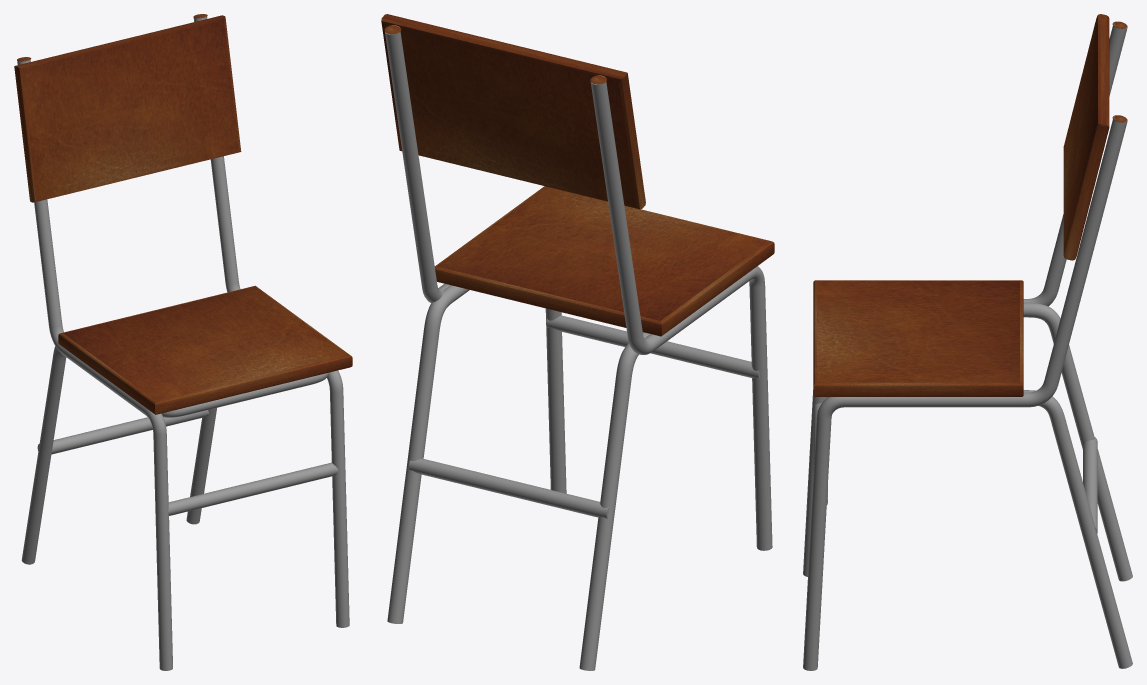
File: SillaCueroCafe.FBX
The picture shows the model from 3 angles, left to right: view 1: azimuth 30°, elevation 25°; view 2: azimuth 150°, elevation 25°; view 3: azimuth 270°, elevation 25°; orthographic projection. The views are drawn at different scales.
Parts seen in each view (by area): view 1: Espaldar, Asiento, TUboIzquierdo, TuboPatasTraseras, TuboDerecho, TuboMedioDelantero, TuboMedioTrasero; view 2: Espaldar, Asiento, TuboPatasTraseras, TUboIzquierdo, TuboDerecho, TuboMedioTrasero, TuboMedioDelantero; view 3: Asiento, TuboDerecho, TuboPatasTraseras, Espaldar, TUboIzquierdo, TuboMedioTrasero.
Part boxes in pixels (x1,y1,x2,y2): Espaldar: (14, 15, 241, 202); Asiento: (58, 285, 352, 414); TUboIzquierdo: (17, 59, 172, 670); TuboPatasTraseras: (21, 346, 328, 564); TuboDerecho: (193, 16, 349, 627); TuboMedioDelantero: (168, 462, 338, 515); TuboMedioTrasero: (37, 410, 209, 454); Espaldar: (381, 14, 645, 209); Asiento: (434, 186, 774, 336); TuboPatasTraseras: (387, 285, 649, 670); TUboIzquierdo: (590, 75, 772, 550); TuboDerecho: (385, 25, 566, 493); TuboMedioTrasero: (408, 458, 608, 518); TuboMedioDelantero: (546, 315, 759, 379); Asiento: (813, 280, 1023, 396); TuboDerecho: (803, 116, 1127, 670); TuboPatasTraseras: (826, 302, 1132, 668); Espaldar: (1063, 14, 1109, 260); TUboIzquierdo: (803, 22, 1127, 576); TuboMedioTrasero: (1083, 437, 1097, 534).
Bounding box in the file's own units: 13.9 × 32.55 × 17.59.
Materials: 2 (1 with a texture image).
